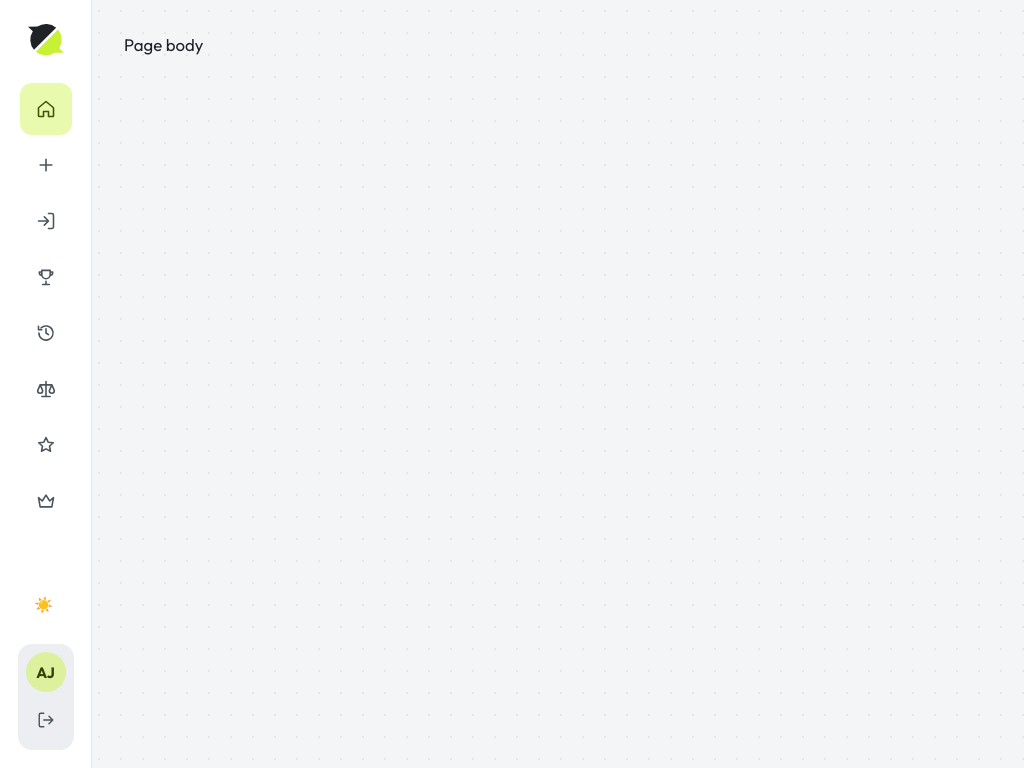
Test: AppShell — theme picker › closes the menu when the backdrop is clicked
Click the button titled "change theme" at (44, 604), box [18,578,70,630]
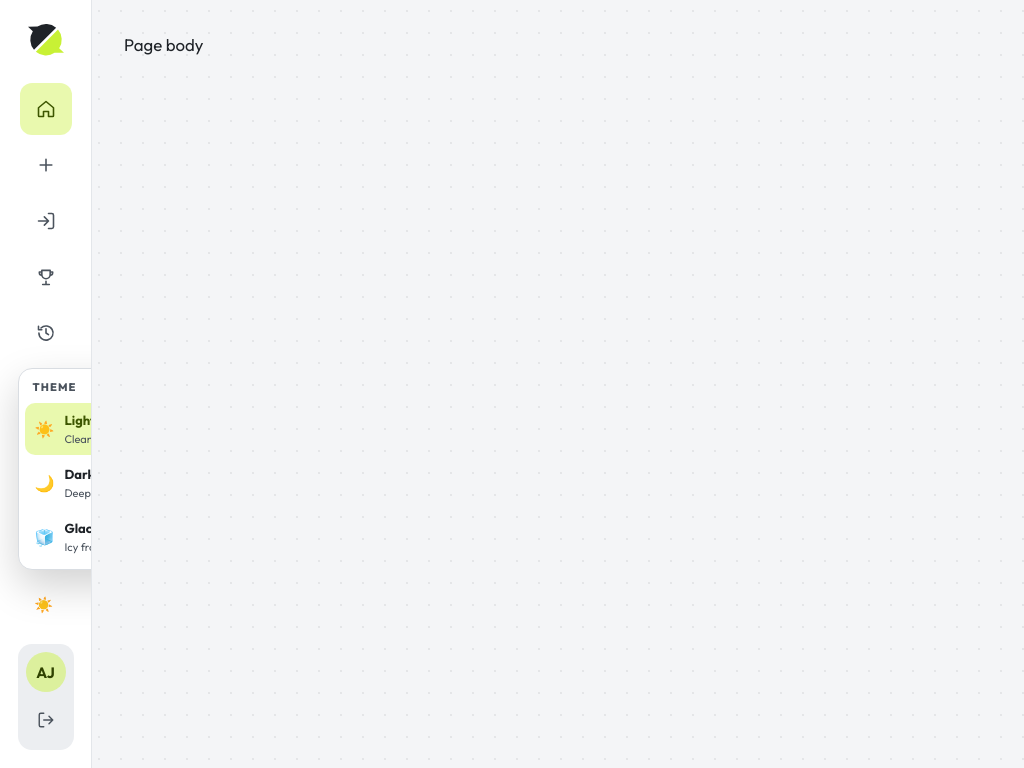
Click the element with class "shell-menu-backdrop" at (512, 384), box [0,0,1023,767]
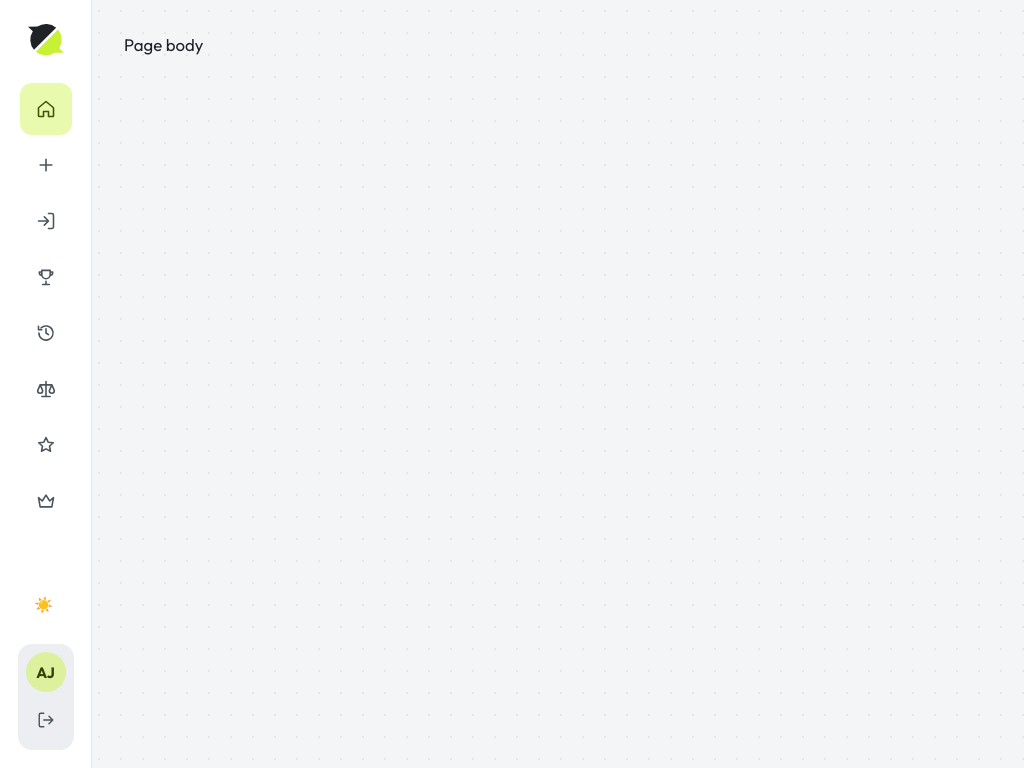
Expected: the text "Theme" is gone
